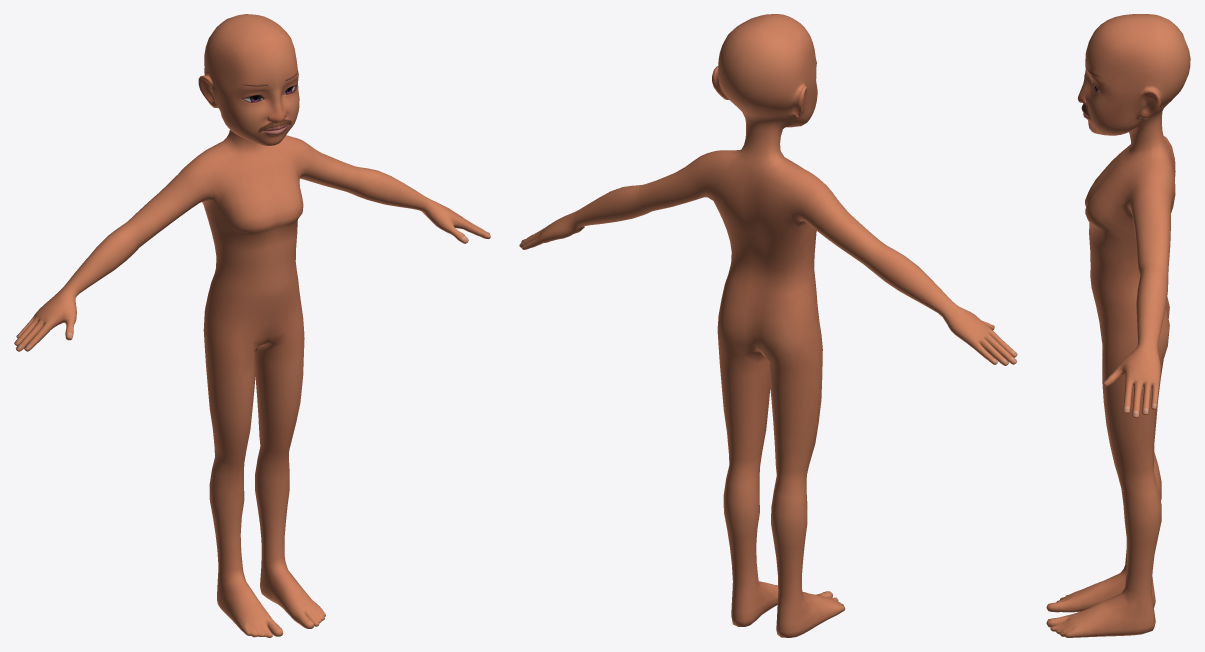
File: frame_0004.glb
The picture shows the model from 3 angles, left to right: view 1: azimuth 30°, elevation 25°; view 2: azimuth 150°, elevation 25°; view 3: azimuth 270°, elevation 25°; orthographic projection. The views are drawn at different scales.
Parts seen in each view (by area): view 1: frame_0004_head_geo; view 2: frame_0004_head_geo; view 3: frame_0004_head_geo.
Boxes of the visible parts, x1,y1,x2,y2 form: frame_0004_head_geo: (14,14,490,637); frame_0004_head_geo: (519,14,1017,637); frame_0004_head_geo: (1046,14,1190,637).
Bounding box in the file's own units: 1.28 × 1.5 × 0.3253.
Materials: 3 (3 with a texture image).
